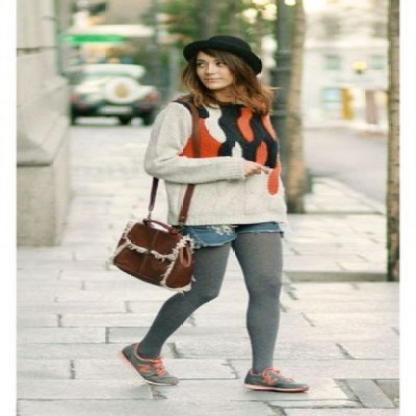bag: (109, 172, 211, 290)
hat: (183, 35, 258, 68)
shirt: (138, 92, 286, 224)
shoe: (122, 343, 308, 399)
shorts: (187, 221, 283, 250)
